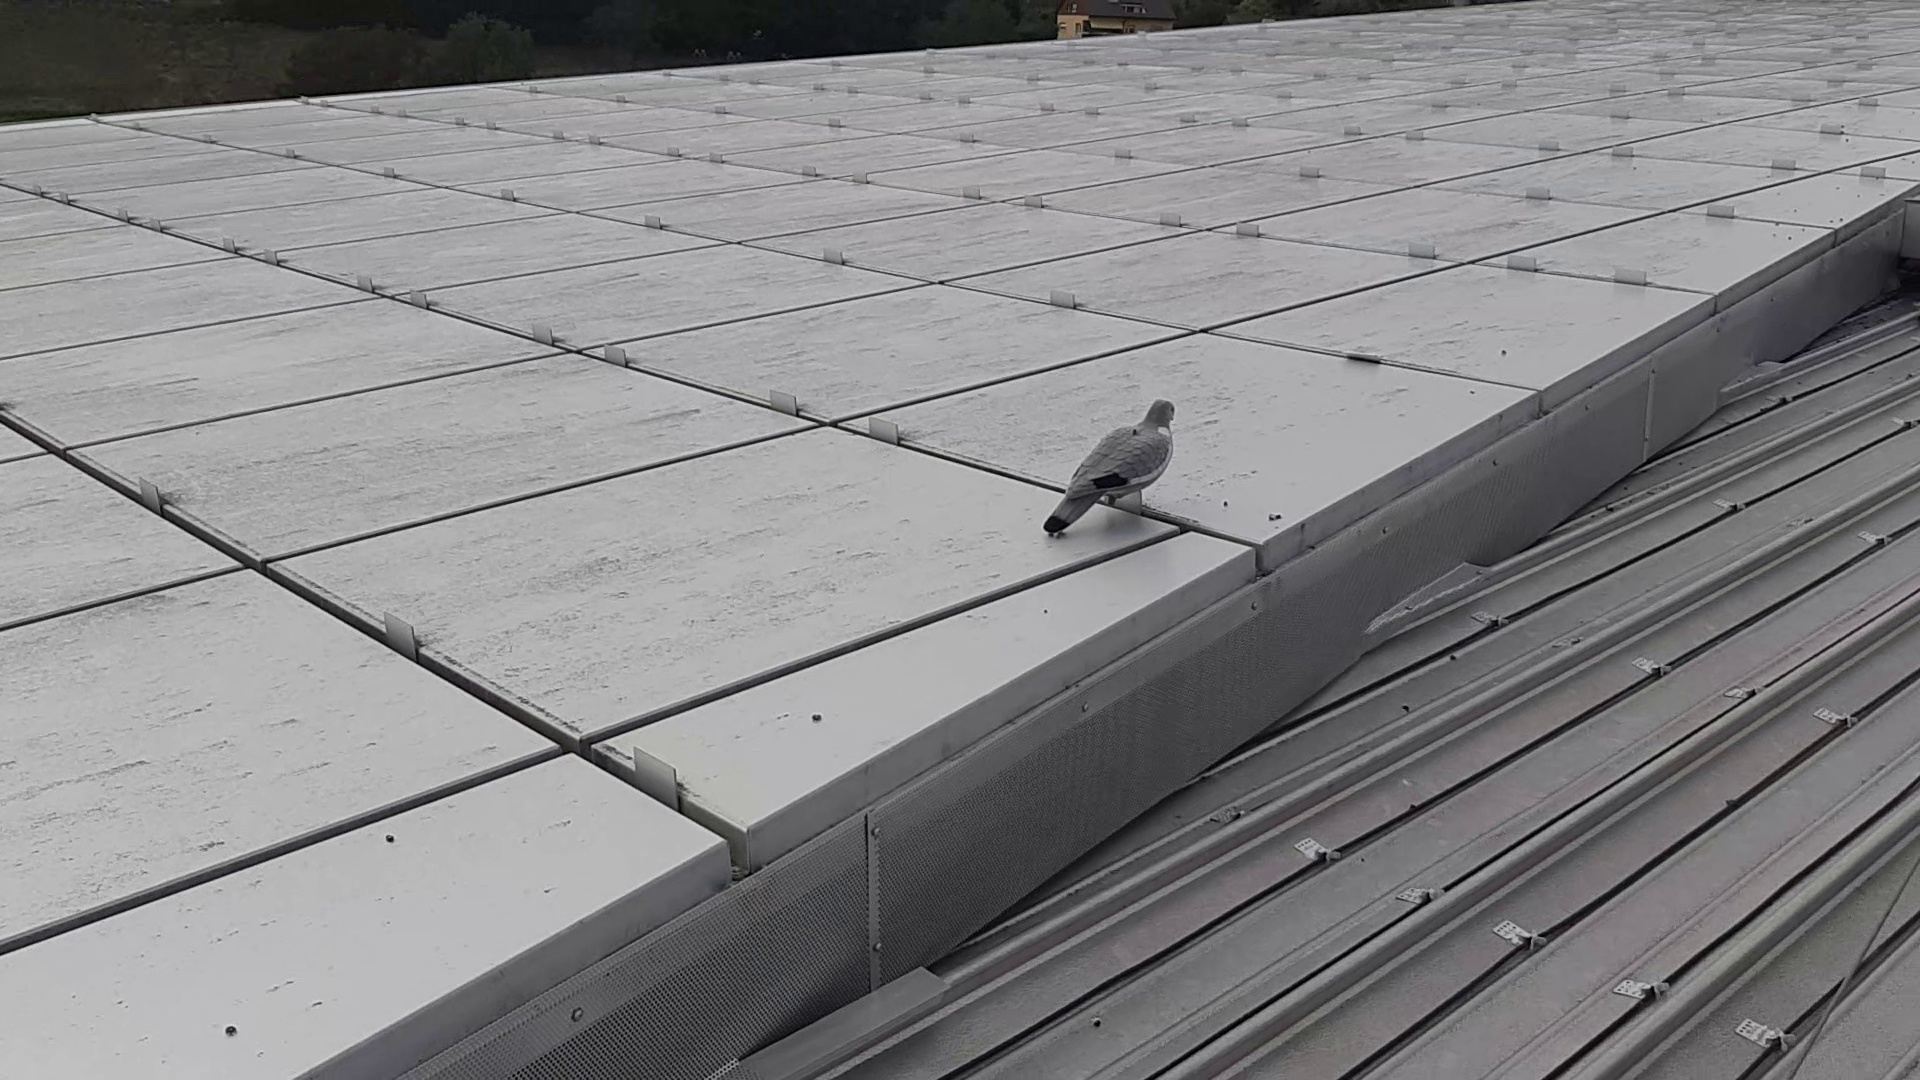Pigeon: (1040, 396, 1183, 554)
